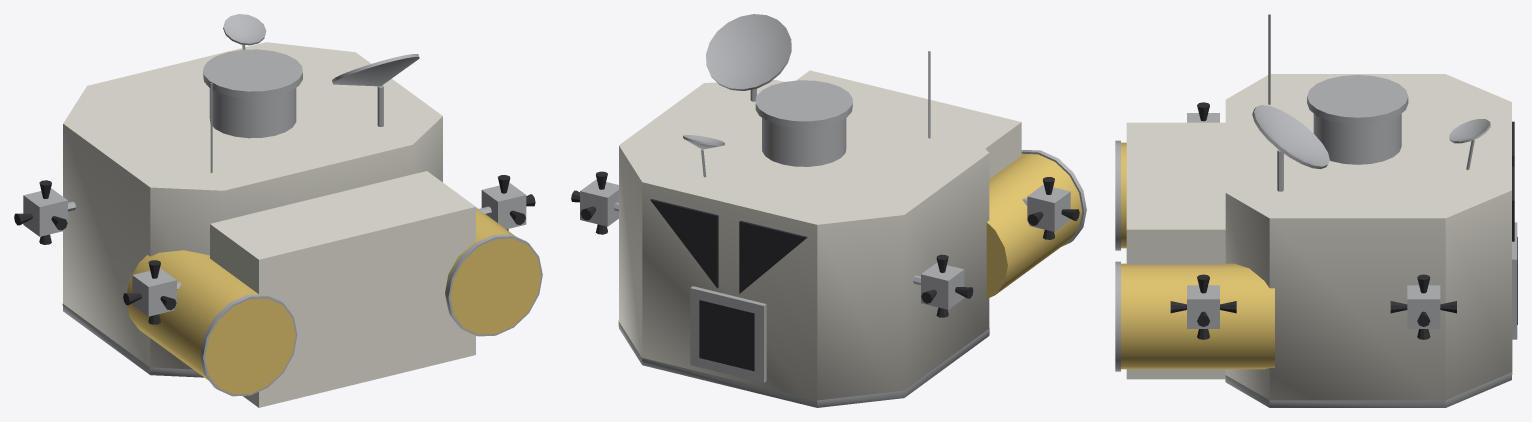
File: LM_Ascent.fbx
The picture shows the model from 3 angles, left to right: view 1: azimuth 30°, elevation 25°; view 2: azimuth 150°, elevation 25°; view 3: azimuth 270°, elevation 25°; orthographic projection. The views are drawn at different scales.
Parts seen in each view (by area): view 1: LM_Ascent; view 2: LM_Ascent; view 3: LM_Ascent.
Boxes of the visible parts, <box> form: LM_Ascent: <box>14,14,542,407</box>; LM_Ascent: <box>571,14,1086,407</box>; LM_Ascent: <box>1115,14,1517,407</box>.
Size of the model in its own units: 4.3 by 3.1 by 3.66.
